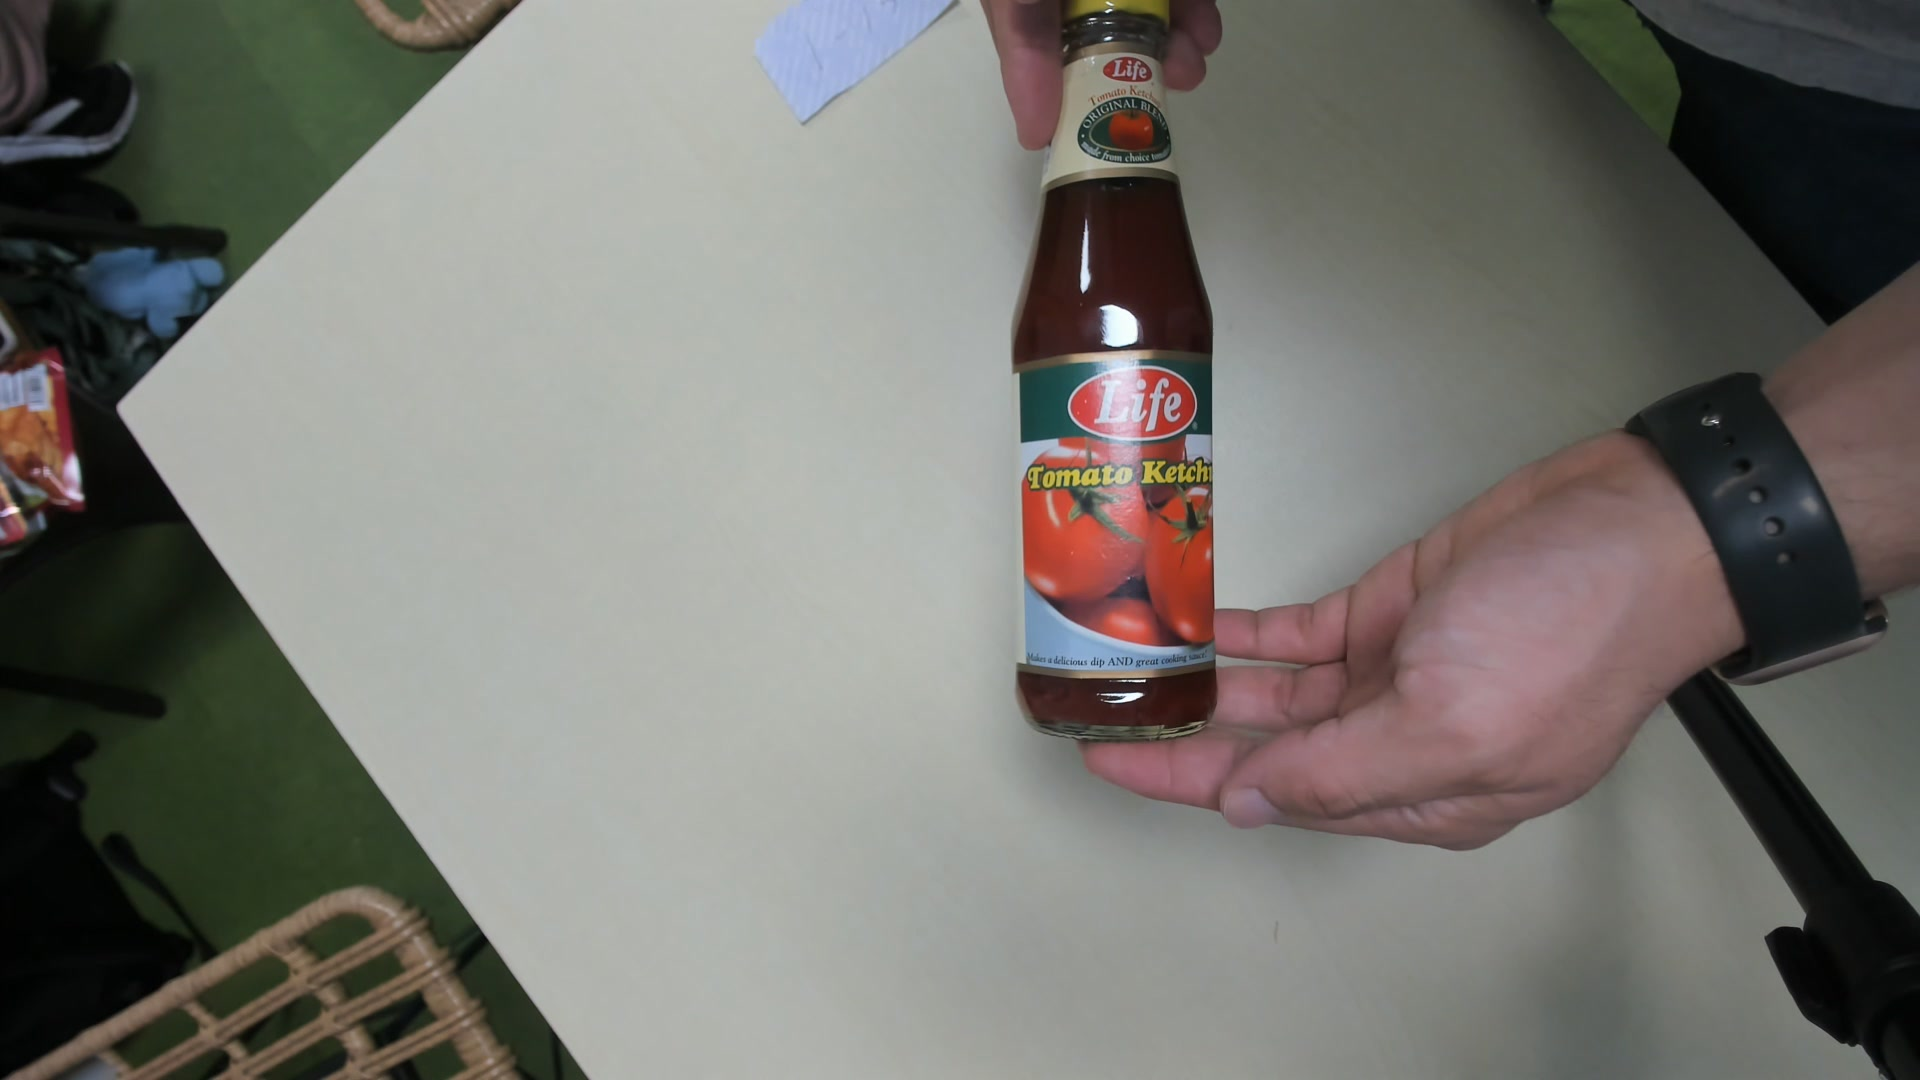KetchupChillSauce_300-399g_Halal_NonHealthy: (1009, 5, 1217, 749)
